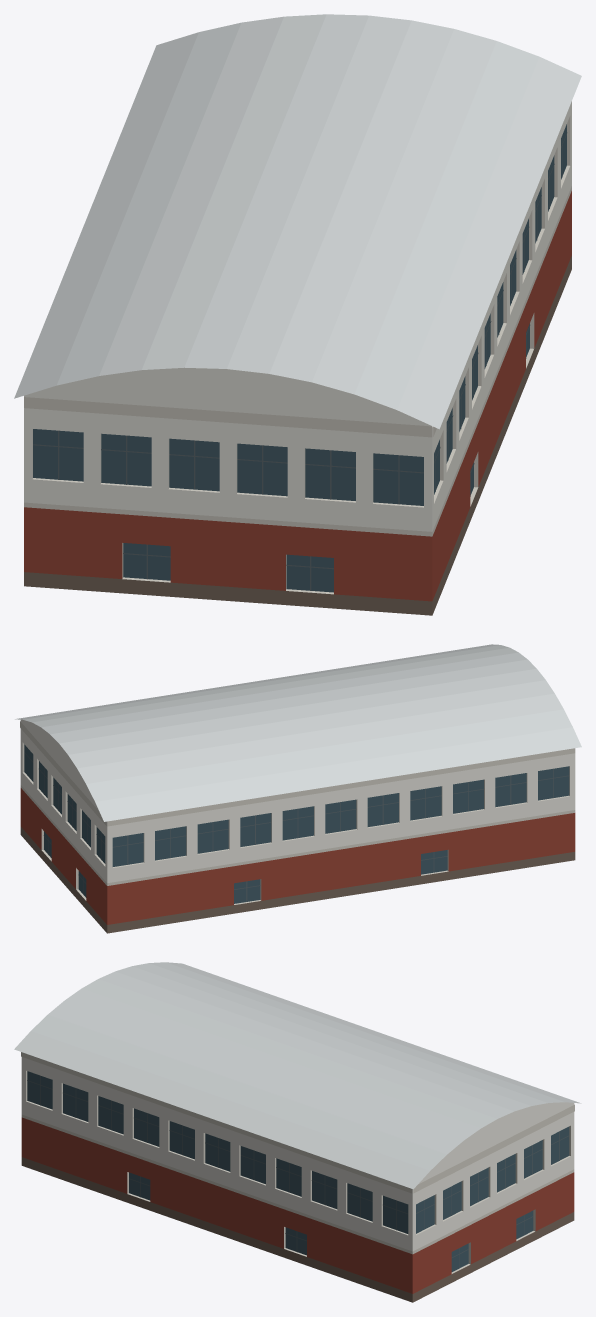
The picture shows the model from 3 angles, top to bottom: view 1: azimuth 30°, elevation 25°; view 2: azimuth 150°, elevation 25°; view 3: azimuth 270°, elevation 25°; orthographic projection. The views are drawn at different scales.
Parts seen in each view (by area): view 1: hall2__roof-metal, hall2__wall-plaster, hall2__brick, hall2__glass, hall2__trim-concrete, hall2__base-stone, hall2__frame; view 2: hall2__roof-metal, hall2__wall-plaster, hall2__brick, hall2__glass, hall2__trim-concrete, hall2__base-stone, hall2__frame; view 3: hall2__roof-metal, hall2__wall-plaster, hall2__brick, hall2__glass, hall2__trim-concrete, hall2__base-stone, hall2__frame.
Boxes of the visible parts, x1,y1,x2,y2 form: hall2__roof-metal: (14,14,581,429); hall2__wall-plaster: (24,101,571,531); hall2__brick: (24,191,571,601); hall2__glass: (33,124,566,592); hall2__trim-concrete: (24,116,571,594); hall2__base-stone: (24,255,571,615); hall2__frame: (33,132,567,590); hall2__roof-metal: (15,644,581,821); hall2__wall-plaster: (20,719,575,883); hall2__brick: (20,788,575,924); hall2__glass: (24,744,569,903); hall2__trim-concrete: (20,721,575,904); hall2__base-stone: (20,827,575,933); hall2__frame: (24,752,569,901); hall2__roof-metal: (14,962,581,1189); hall2__wall-plaster: (21,1057,574,1251); hall2__brick: (21,1117,574,1293); hall2__glass: (27,1071,569,1271); hall2__trim-concrete: (21,1052,574,1273); hall2__base-stone: (21,1157,574,1302); hall2__frame: (27,1075,569,1268).
Bounding box in the file's own units: 50.09 × 14.9 × 53.24.
